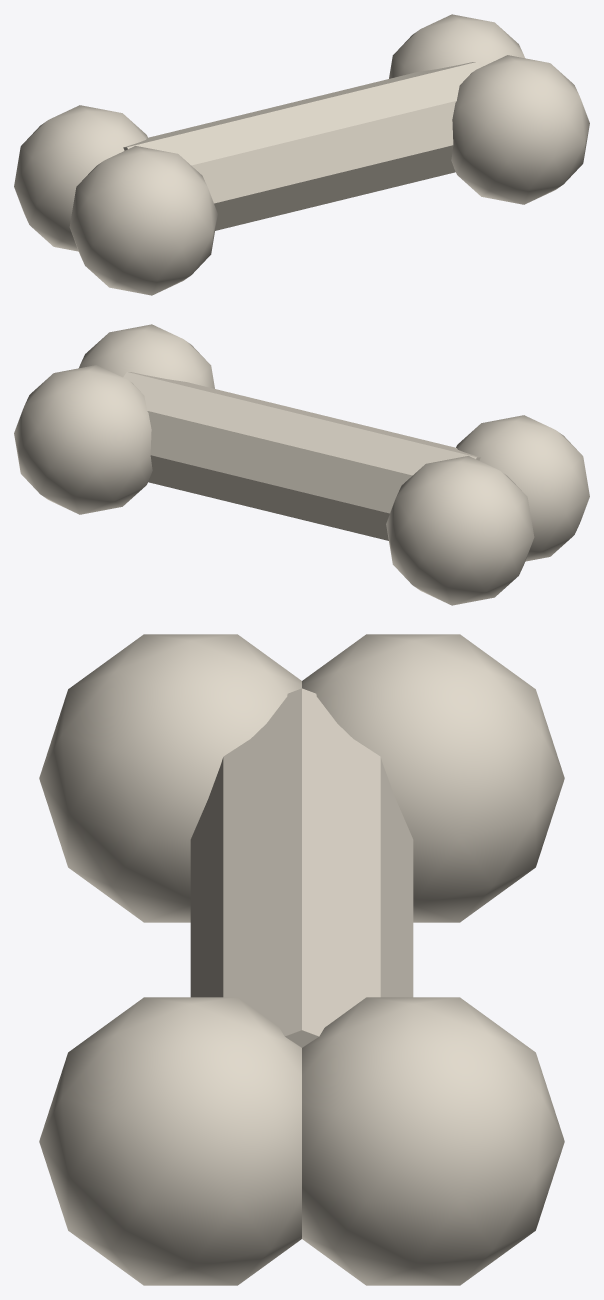
The model's file is prop_bone.glb.
The picture shows the model from 3 angles, top to bottom: view 1: azimuth 30°, elevation 25°; view 2: azimuth 150°, elevation 25°; view 3: azimuth 270°, elevation 25°; orthographic projection. The views are drawn at different scales.
Visible parts, largest first — view 1: prop_bone; view 2: prop_bone; view 3: prop_bone.
Part boxes in pixels (box(x1,y1,x2,y2)): prop_bone: box(14, 14, 589, 295); prop_bone: box(14, 324, 589, 605); prop_bone: box(39, 634, 564, 1285).
Size of the model in its own units: 0.2271 by 0.06 by 0.104.
